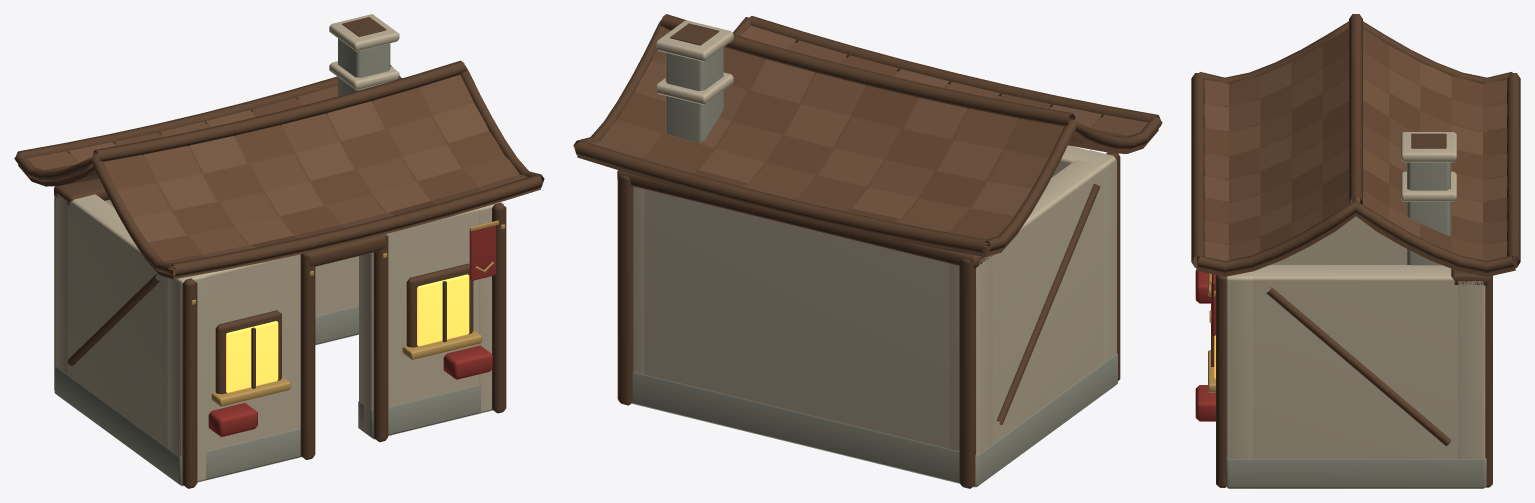
Rendered from architecture-hut.glb.
3 views of the same model, side by side, from view 1: azimuth 30°, elevation 25°; view 2: azimuth 150°, elevation 25°; view 3: azimuth 270°, elevation 25° (orthographic). The views are drawn at different scales.
Parts seen in each view (by area): view 1: architecture-hut-exterior; view 2: architecture-hut-exterior; view 3: architecture-hut-exterior.
Part boxes in pixels (box(x1,y1,x2,y2)): architecture-hut-exterior: box(14, 14, 544, 488); architecture-hut-exterior: box(573, 14, 1162, 488); architecture-hut-exterior: box(1191, 14, 1520, 488).
Size of the model in its own units: 4.07 by 3.31 by 3.
